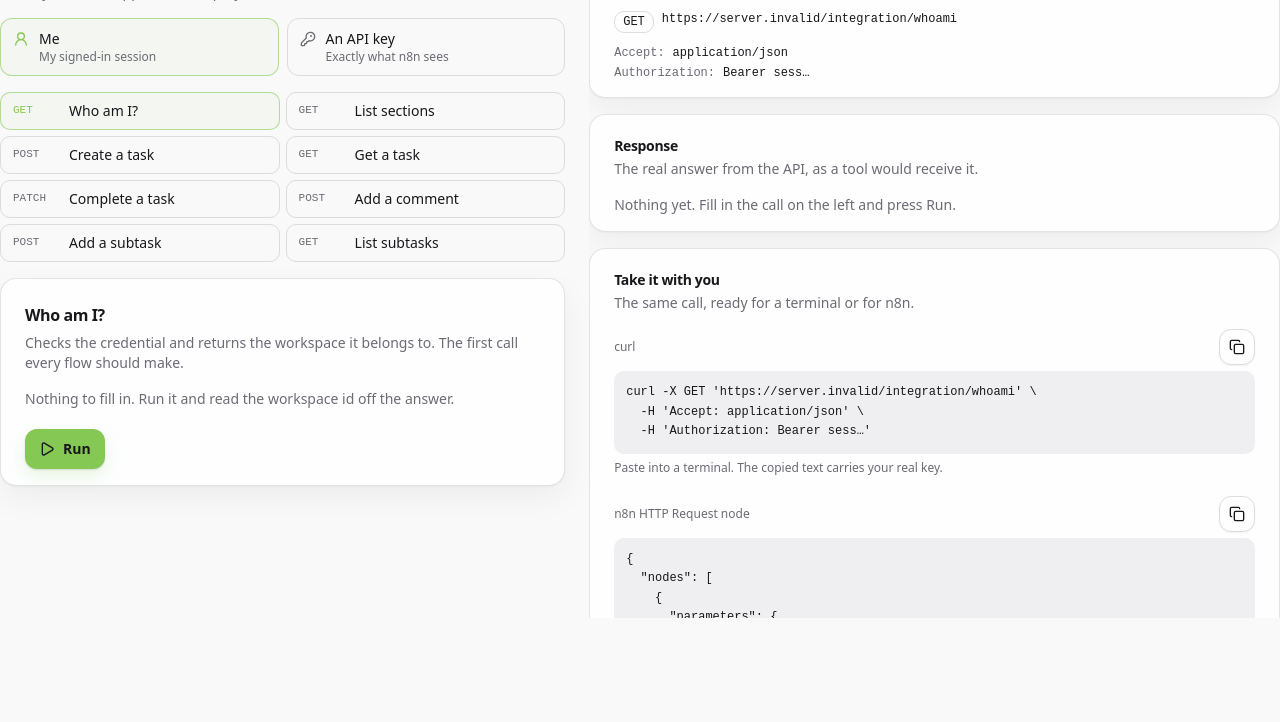
Test: PlaygroundPage › refuses to run with required fields empty, and sends nothing
Click the button "POST Create a task" at (140, 155), box [0, 136, 280, 174]
(page scrolled)
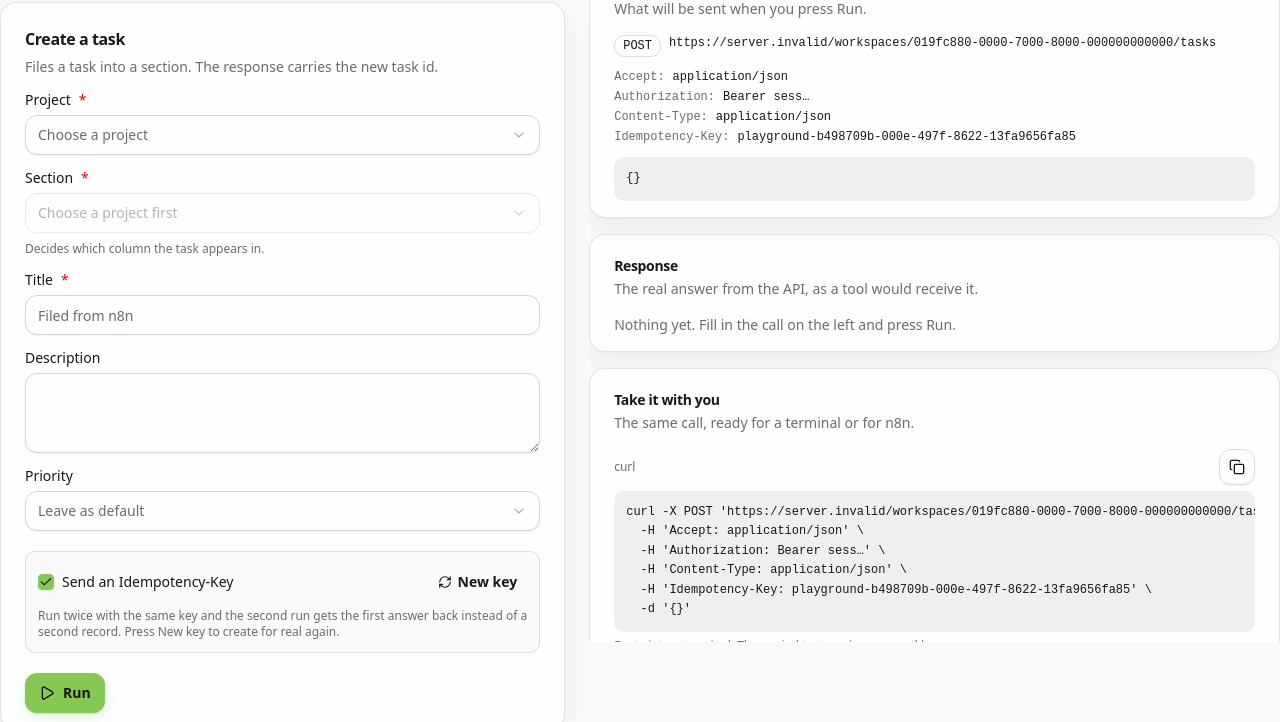
Click the button "Run" at (65, 693), box [25, 673, 105, 713]
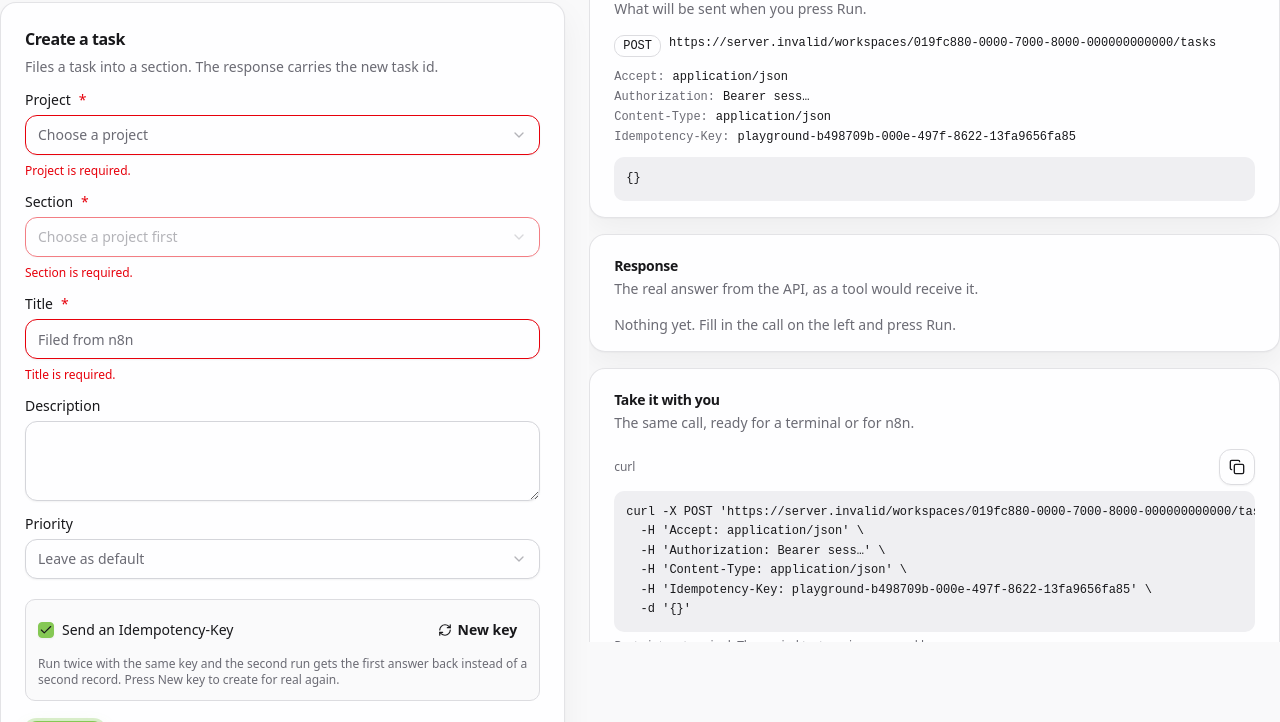
Expected: the text "Section is required." is shown, [25, 264, 133, 281]
Expected: the text "Title is required." is shown, [25, 366, 116, 383]
